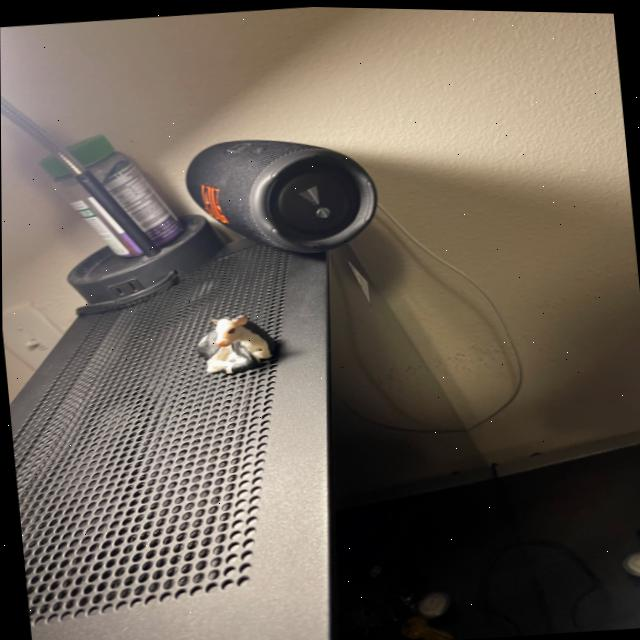cow: (201, 312, 275, 374), (231, 334, 239, 340)
